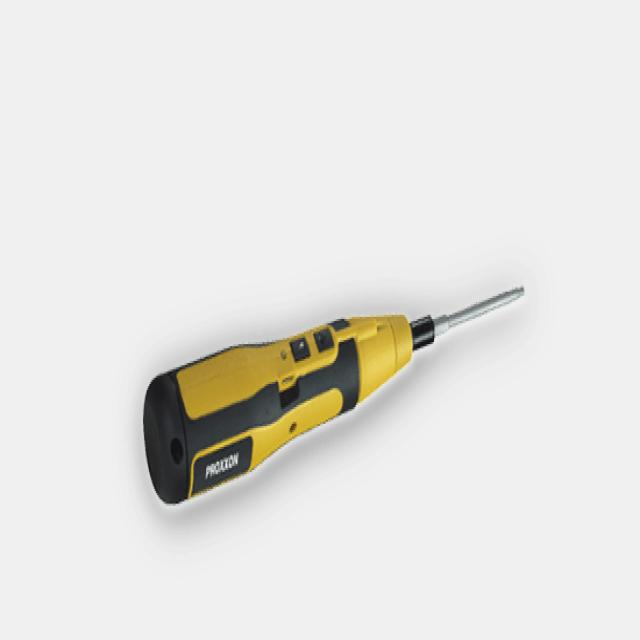Screwdriver: (144, 290, 524, 502)
